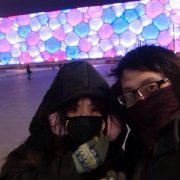OK: (124, 76, 172, 126), (64, 100, 104, 140)
